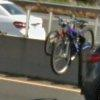Bicycle: (33, 8, 93, 78)
